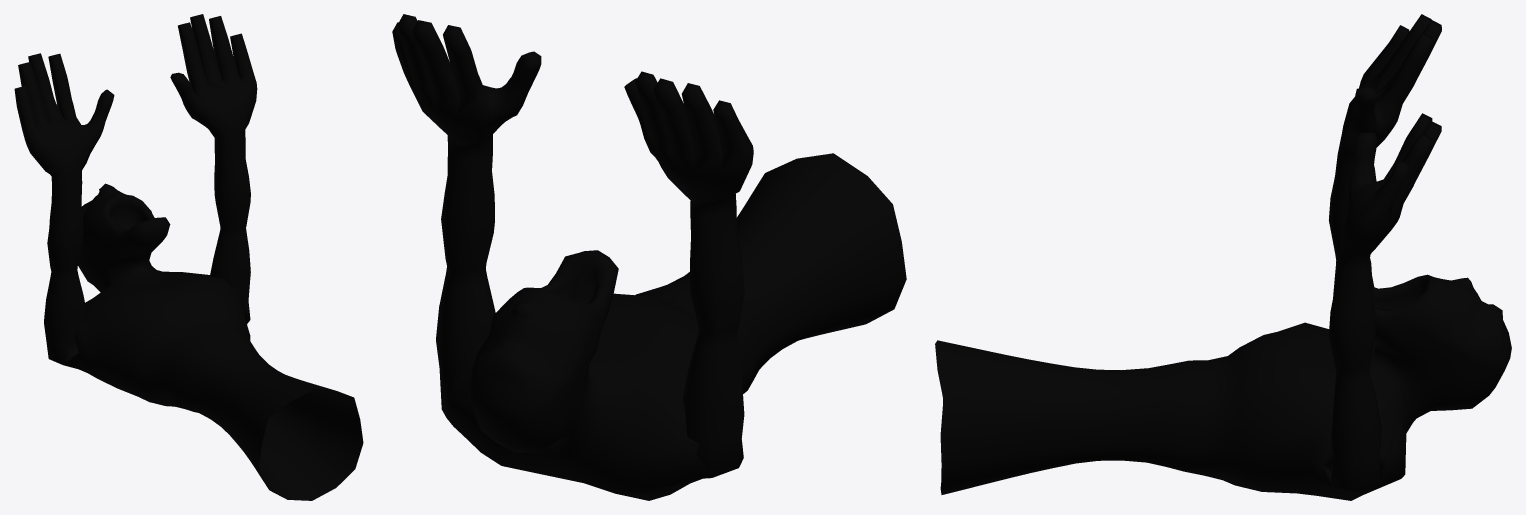
Rendered from SearcherEnemy 1.fbx.
3 renders of one model, left to right at view 1: azimuth 30°, elevation 25°; view 2: azimuth 150°, elevation 25°; view 3: azimuth 270°, elevation 25°, orthographic. The views are drawn at different scales.
Parts seen in each view (by area): view 1: Searcher_v2_model_0.001; view 2: Searcher_v2_model_0.001; view 3: Searcher_v2_model_0.001.
Boxes of the visible parts, x1=… form: Searcher_v2_model_0.001: x1=14, y1=14, x2=363, y2=500; Searcher_v2_model_0.001: x1=392, y1=14, x2=906, y2=500; Searcher_v2_model_0.001: x1=935, y1=14, x2=1511, y2=500.
Bounding box in the file's own units: 303 × 418 × 526.
Materials: 1 (1 with a texture image).
